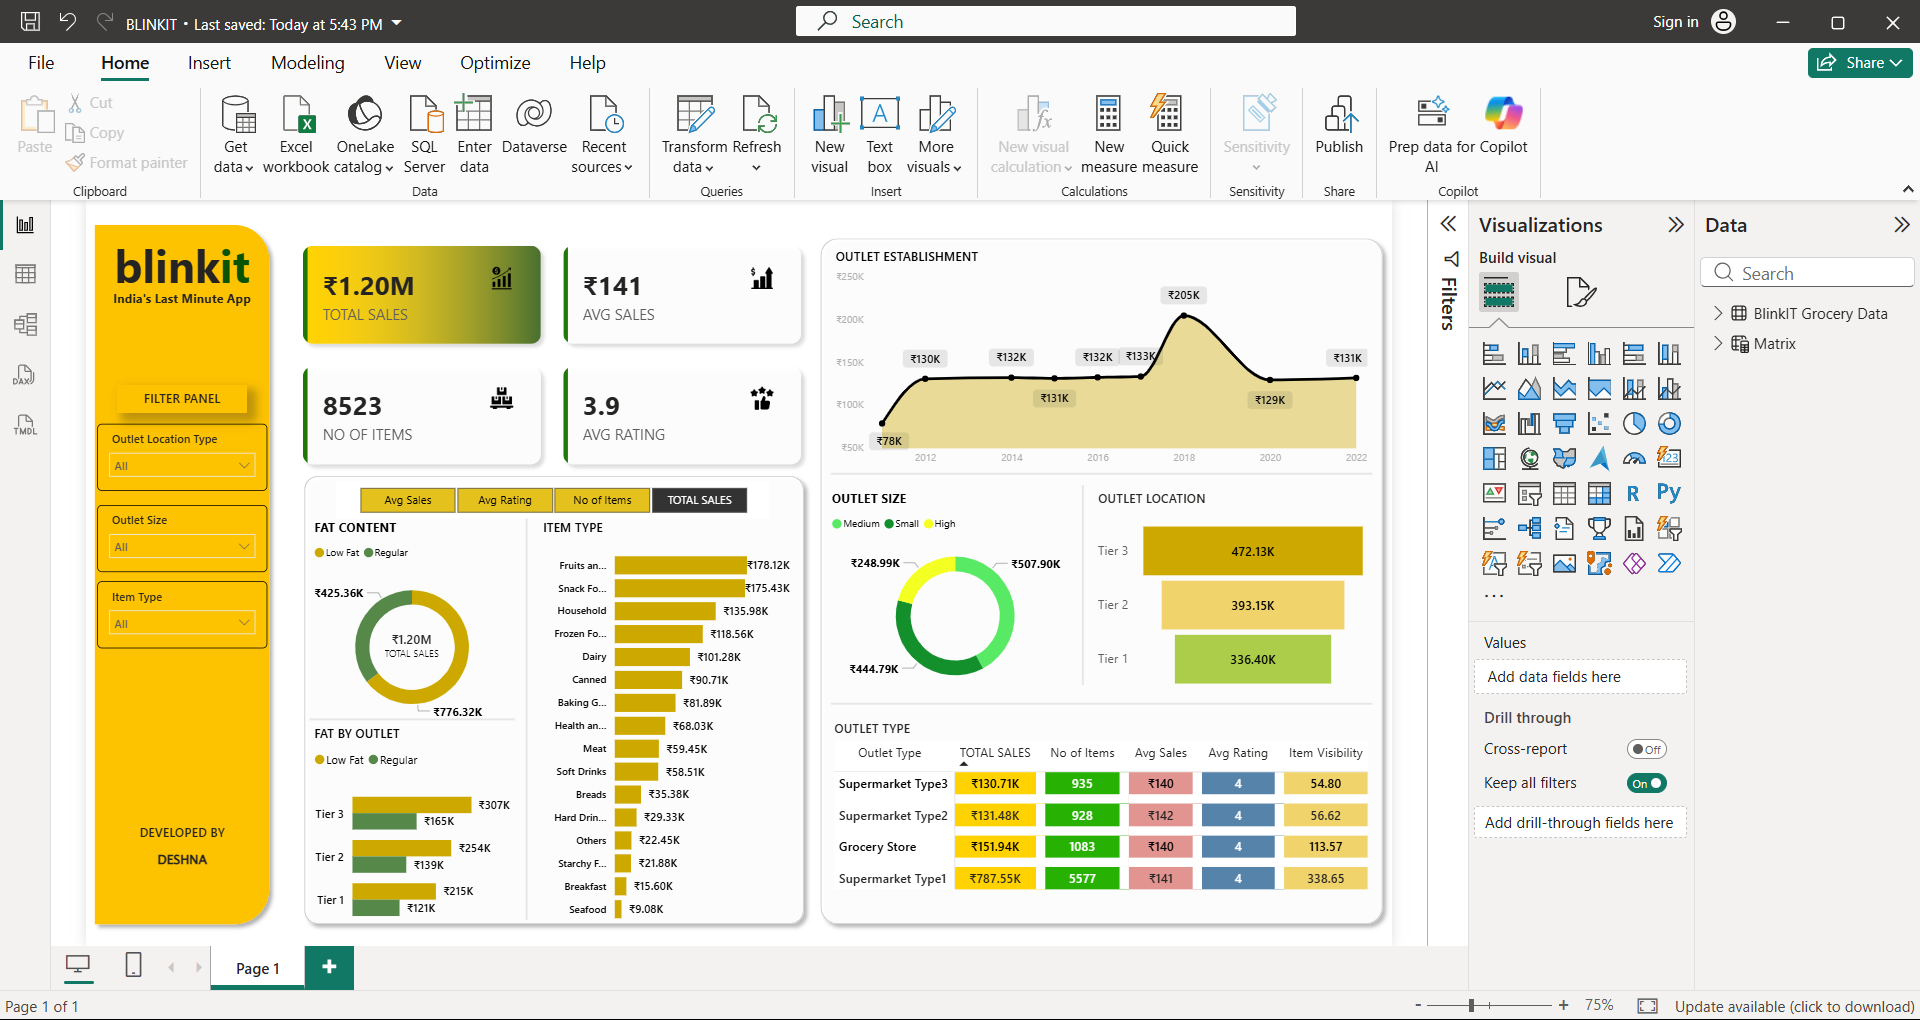

What the dashboard file says about the page in this screenshot:
{"tool":"powerbi","page":{"name":"Page 1","canvas":[1400,800],"ordinal":0},"visuals":[{"type":"shape","box":[0,18,205.6,768.4],"z":0},{"type":"textbox","box":[16.5,31.5,174.1,75],"z":1000},{"type":"textbox","box":[16.5,91.6,174.1,30],"z":2000},{"type":"cardVisual","fields":{"Data":["BlinkIT Grocery Data.TOTAL SALES","BlinkIT Grocery Data.Avg Sales","BlinkIT Grocery Data.No of Items","BlinkIT Grocery Data.Avg Rating"]},"box":[215.8,32.2,569.7,269.4],"z":3000},{"type":"shape","box":[225.2,286.9,553.6,498.7],"z":4000},{"type":"donutChart","title":"FAT CONTENT","fields":{"Y":["BlinkIT Grocery Data.TOTAL SALES"],"Category":["BlinkIT Grocery Data.Item Fat Content"]},"box":[239.9,341.8,219.8,230.6],"z":5000},{"type":"slicer","fields":{"Values":["Matrix.Matrix"]},"box":[268.1,301.6,465.1,40.2],"z":6000},{"type":"cardVisual","fields":{"Data":["BlinkIT Grocery Data.TOTAL SALES"]},"box":[290.9,437,118,80.4],"z":7000},{"type":"clusteredBarChart","title":"FAT BY OUTLET","fields":{"Y":["BlinkIT Grocery Data.TOTAL SALES"],"Category":["BlinkIT Grocery Data.Outlet Location Type"],"Series":["BlinkIT Grocery Data.Item Fat Content"]},"box":[239.9,563,219.8,230.6],"z":8000},{"type":"shape","box":[239.9,548.3,219.8,17.4],"z":9000},{"type":"shape","box":[459.8,341.8,25.5,430.3],"z":10000},{"type":"barChart","title":"ITEM TYPE","fields":{"Y":["BlinkIT Grocery Data.TOTAL SALES"],"Category":["BlinkIT Grocery Data.Item Type"]},"box":[485.3,341.8,274.8,443.7],"z":11000},{"type":"shape","box":[778.8,32.2,620.6,753.4],"z":12000},{"type":"lineChart","title":"OUTLET ESTABLISHMENT","fields":{"Y":["BlinkIT Grocery Data.TOTAL SALES"],"Category":["BlinkIT Grocery Data.Outlet Establishment Year"]},"box":[798.9,50.9,580.4,242.6],"z":13000},{"type":"shape","box":[798.9,276.1,580.4,34.9],"z":14000},{"type":"donutChart","title":"OUTLET SIZE","fields":{"Y":["BlinkIT Grocery Data.TOTAL SALES"],"Category":["BlinkIT Grocery Data.Outlet Size"]},"box":[794.9,311,274.8,225.2],"z":15000},{"type":"shape","box":[1064.3,305.6,9.4,214.5],"z":16000},{"type":"funnel","title":"OUTLET LOCATION","fields":{"Y":["Sum(BlinkIT Grocery Data.Sales)"],"Category":["BlinkIT Grocery Data.Outlet Location Type"]},"box":[1080.4,311,298.9,229.2],"z":17000},{"type":"shape","box":[798.9,522.8,580.4,34.9],"z":18000},{"type":"pivotTable","title":"OUTLET TYPE","fields":{"Rows":["BlinkIT Grocery Data.Outlet Type"],"Values":["BlinkIT Grocery Data.TOTAL SALES","BlinkIT Grocery Data.No of Items","BlinkIT Grocery Data.Avg Sales","BlinkIT Grocery Data.Avg Rating","Sum(BlinkIT Grocery Data.Item Visibility)"]},"box":[797.6,557.6,584.5,203.8],"z":19000},{"type":"slicer","fields":{"Values":["BlinkIT Grocery Data.Outlet Location Type"]},"box":[12.1,239.9,182.3,72.4],"z":20000},{"type":"slicer","fields":{"Values":["BlinkIT Grocery Data.Outlet Size"]},"box":[12.1,327.1,182.3,72.4],"z":21000},{"type":"slicer","fields":{"Values":["BlinkIT Grocery Data.Item Type"]},"box":[12.1,408.8,182.3,72.4],"z":22000},{"type":"textbox","box":[33.5,198.4,139.4,29.5],"z":23000},{"type":"textbox","box":[33.5,663.5,139.4,29.5],"z":24000},{"type":"textbox","box":[48.3,693,109.9,32.2],"z":25000}]}

Visuals, with their boxes on the page's 1400x800 design canvas (x1, y1, x2, y2). These are canvas units, not pixel positions in the 1920x1020 screenshot, which may show the page scaled, cropped or inside an application window:
shape: <region>0, 18, 206, 786</region>
textbox: <region>16, 32, 191, 106</region>
textbox: <region>16, 92, 191, 122</region>
cardVisual - BlinkIT Grocery Data.TOTAL SALES x BlinkIT Grocery Data.Avg Sales: <region>216, 32, 786, 302</region>
shape: <region>225, 287, 779, 786</region>
"FAT CONTENT" donutChart: <region>240, 342, 460, 572</region>
slicer - Matrix.Matrix: <region>268, 302, 733, 342</region>
cardVisual - BlinkIT Grocery Data.TOTAL SALES: <region>291, 437, 409, 517</region>
"FAT BY OUTLET" clusteredBarChart: <region>240, 563, 460, 794</region>
shape: <region>240, 548, 460, 566</region>
shape: <region>460, 342, 485, 772</region>
"ITEM TYPE" barChart: <region>485, 342, 760, 786</region>
shape: <region>779, 32, 1399, 786</region>
"OUTLET ESTABLISHMENT" lineChart: <region>799, 51, 1379, 294</region>
shape: <region>799, 276, 1379, 311</region>
"OUTLET SIZE" donutChart: <region>795, 311, 1070, 536</region>
shape: <region>1064, 306, 1074, 520</region>
"OUTLET LOCATION" funnel: <region>1080, 311, 1379, 540</region>
shape: <region>799, 523, 1379, 558</region>
"OUTLET TYPE" pivotTable: <region>798, 558, 1382, 761</region>
slicer - BlinkIT Grocery Data.Outlet Location Type: <region>12, 240, 194, 312</region>
slicer - BlinkIT Grocery Data.Outlet Size: <region>12, 327, 194, 400</region>
slicer - BlinkIT Grocery Data.Item Type: <region>12, 409, 194, 481</region>
textbox: <region>34, 198, 173, 228</region>
textbox: <region>34, 664, 173, 693</region>
textbox: <region>48, 693, 158, 725</region>
